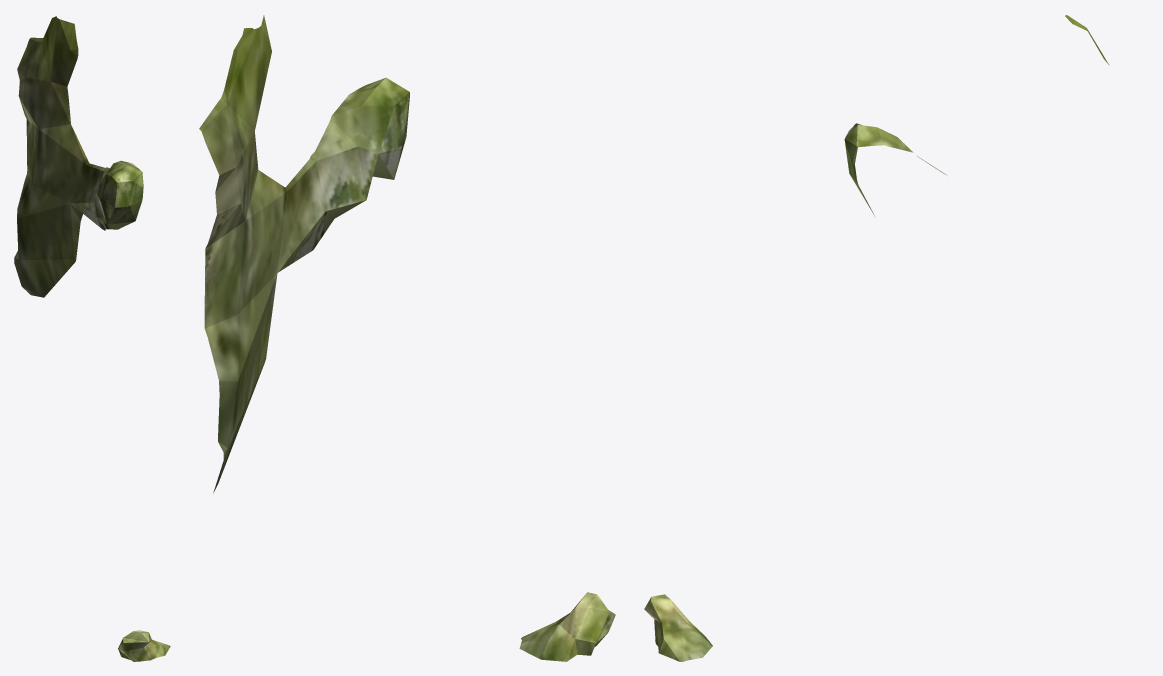
3 renders of one model, left to right at view 1: azimuth 30°, elevation 25°; view 2: azimuth 150°, elevation 25°; view 3: azimuth 270°, elevation 25°, orthographic. The views are drawn at different scales.
Size of the model in its own units: 0.5737 by 2.95 by 2.02.
Materials: 1 (1 with a texture image).
